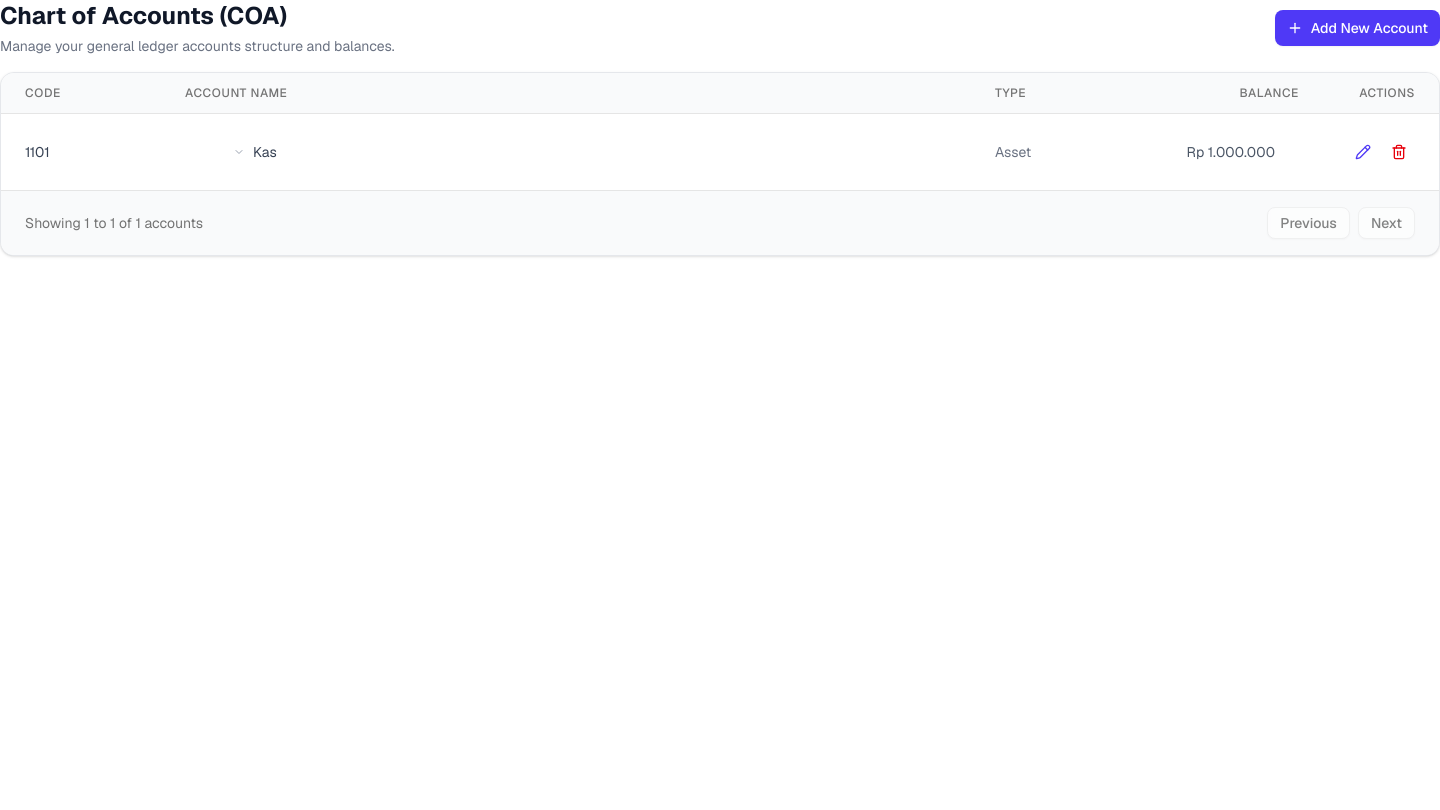
Test: accounting-settings page composition › opens add coa modal from coa page
The width and height of the screenshot is (1440, 810).
Click the button "Add New Account": (1357, 28) [1275,10,1439,46]
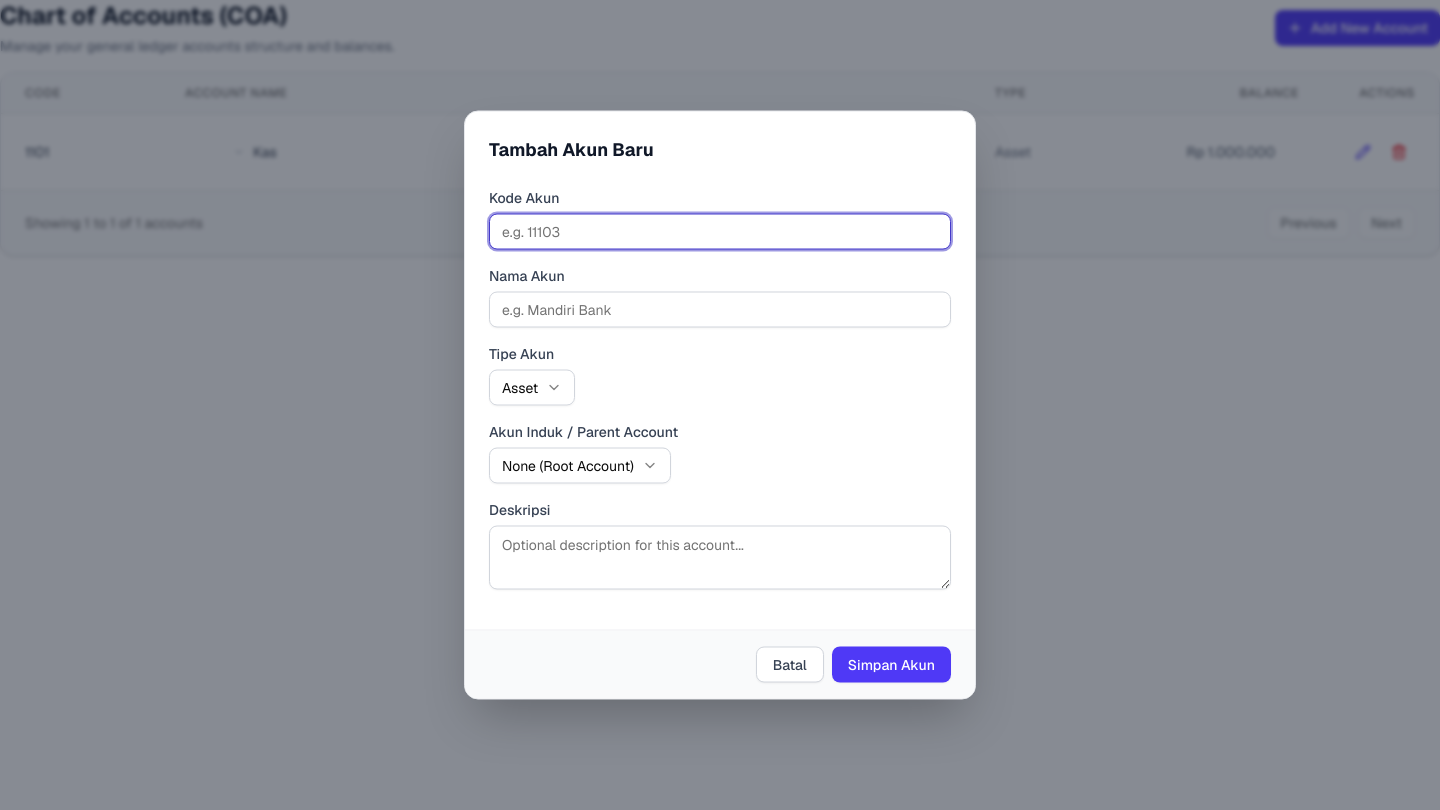
Check: the heading "Tambah Akun Baru" is shown, box [489,138,654,160]
